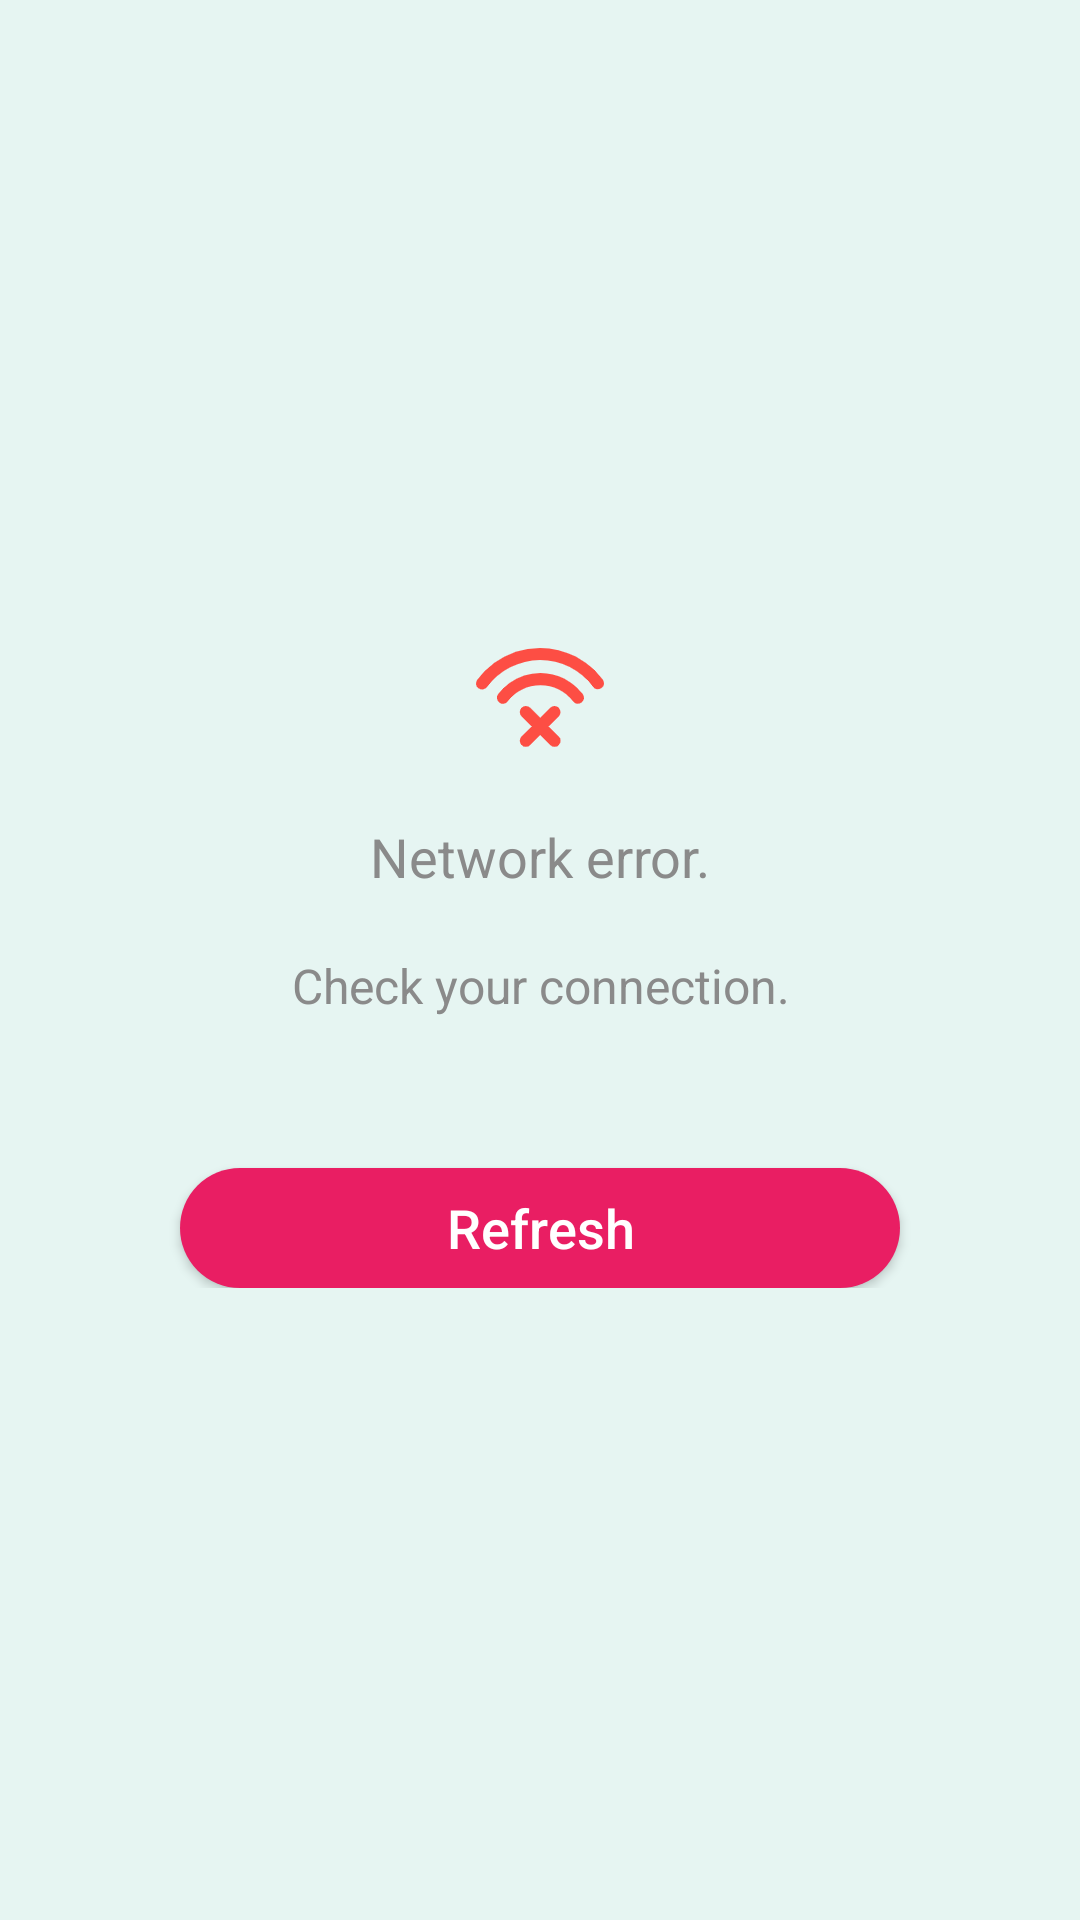

Screen size 1080*1920. Icon name, then its box in pixels as (x1, y1, x2, y2):
no network: (476, 648, 604, 747)
